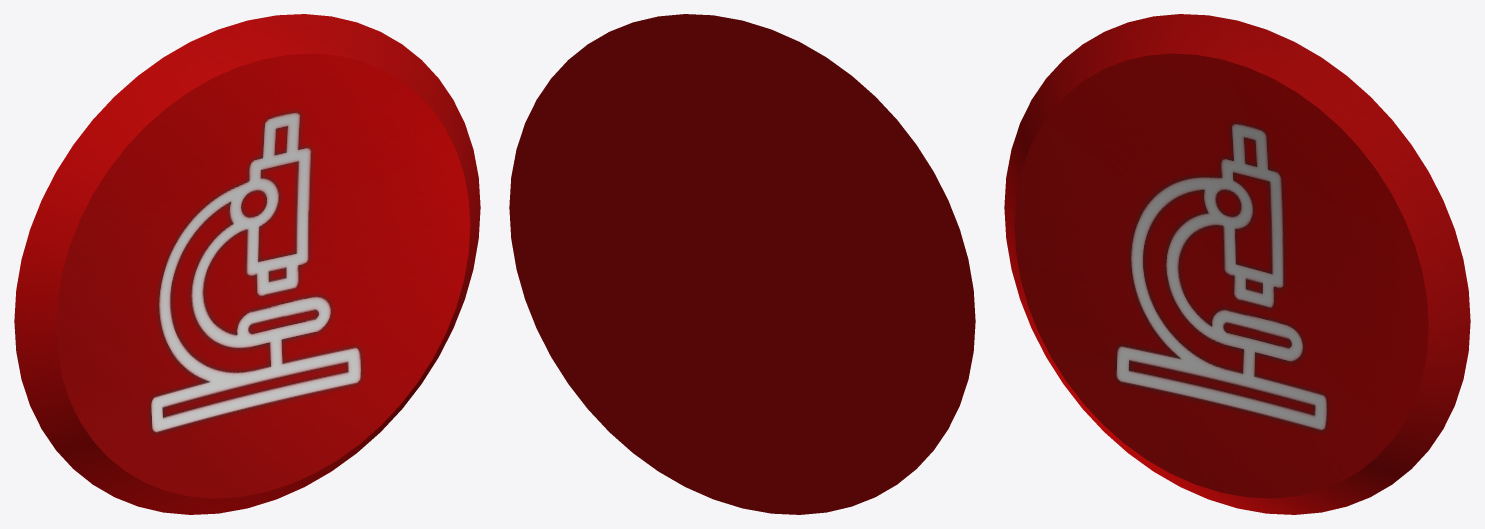
The model's file is boton-investigacion-desplegado-estatico.gltf.
3 views of the same model, side by side, from view 1: azimuth 30°, elevation 25°; view 2: azimuth 150°, elevation 25°; view 3: azimuth 330°, elevation 25° (orthographic).
Parts seen in each view (by area): view 1: Circle003; view 2: Circle003; view 3: Circle003.
Part boxes in pixels (x1,y1,x2,y2): Circle003: [14, 14, 480, 514]; Circle003: [509, 14, 975, 514]; Circle003: [1004, 14, 1470, 514].
Size of the model in its own units: 0.0508 by 0.0508 by 0.00299.
1 material, 1 textured.
